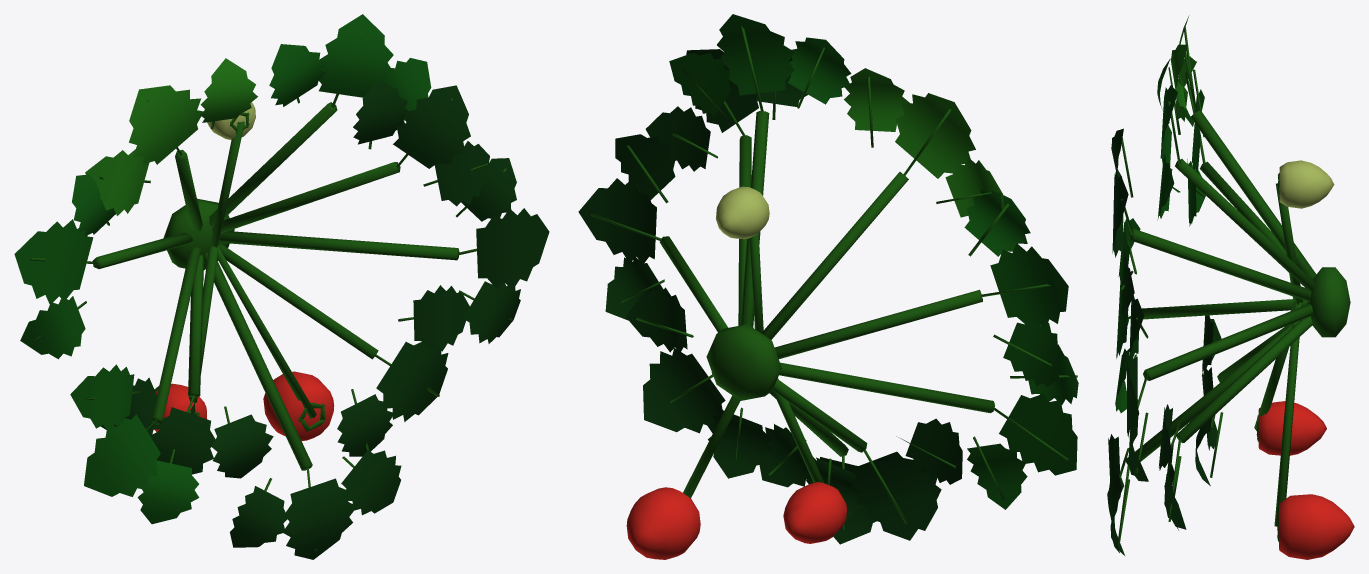
Rendered from plant_variant_10.obj.
3 renders of one model, left to right at view 1: azimuth 30°, elevation 25°; view 2: azimuth 150°, elevation 25°; view 3: azimuth 270°, elevation 25°, orthographic. The views are drawn at different scales.
Visible parts, largest first — view 1: field_export_plant_variant_10; view 2: field_export_plant_variant_10; view 3: field_export_plant_variant_10.
Boxes of the visible parts, box(x1,y1,x2,y2) form: field_export_plant_variant_10: box(14, 14, 549, 559); field_export_plant_variant_10: box(578, 14, 1078, 559); field_export_plant_variant_10: box(1107, 15, 1354, 559).
Bounding box in the file's own units: 0.6568 × 0.6353 × 0.2847.
